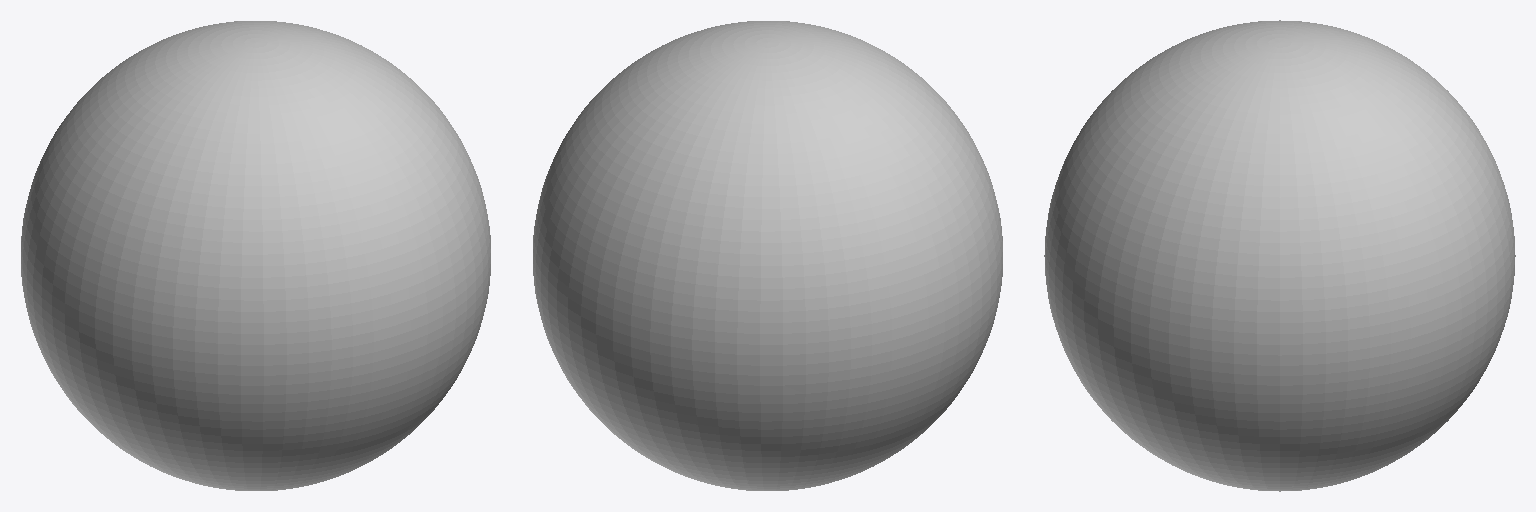
Rendered from sphere_grass.obj.
3 renders of one model, left to right at view 1: azimuth 30°, elevation 25°; view 2: azimuth 150°, elevation 25°; view 3: azimuth 270°, elevation 25°, orthographic.
Visible parts, largest first — view 1: Sphere; view 2: Sphere; view 3: Sphere.
Boxes of the visible parts, x1,y1,x2,y2 form: Sphere: [21, 21, 490, 490]; Sphere: [533, 21, 1002, 490]; Sphere: [1044, 20, 1515, 491].
Size of the model in its own units: 2 by 2 by 2.